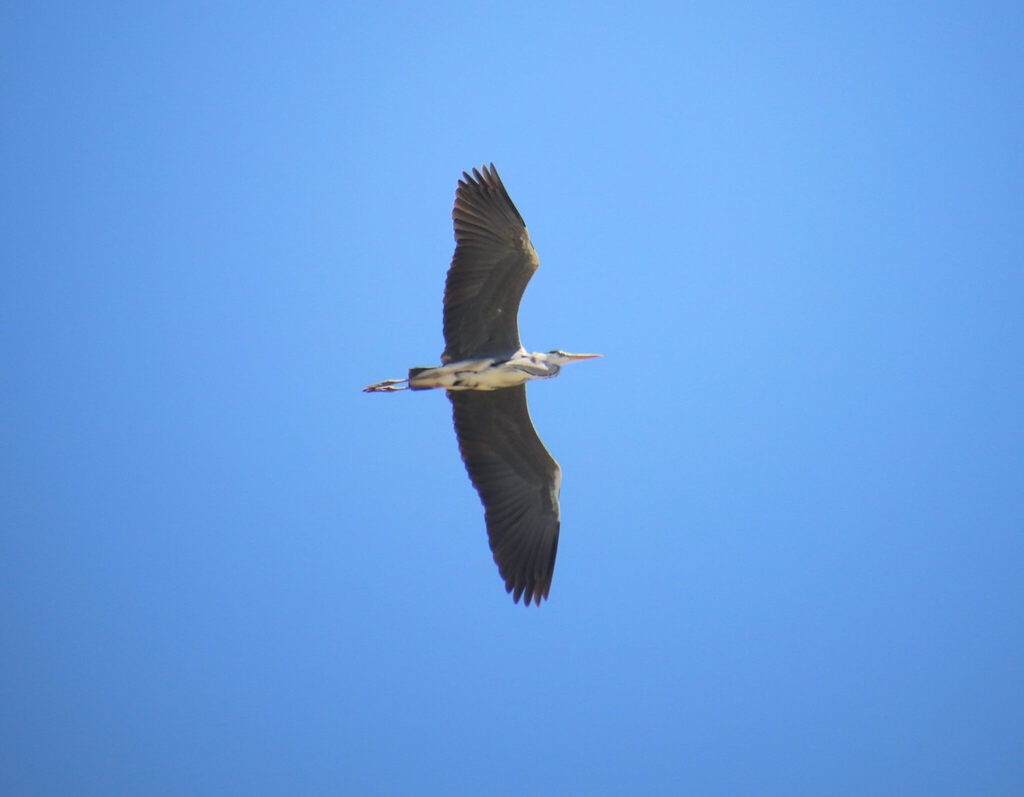heron: (350, 155, 608, 612)
